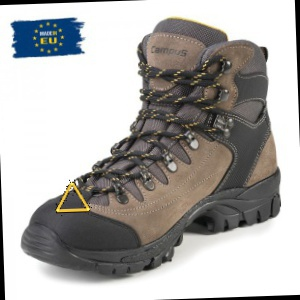triangle: (54, 181, 93, 215)
